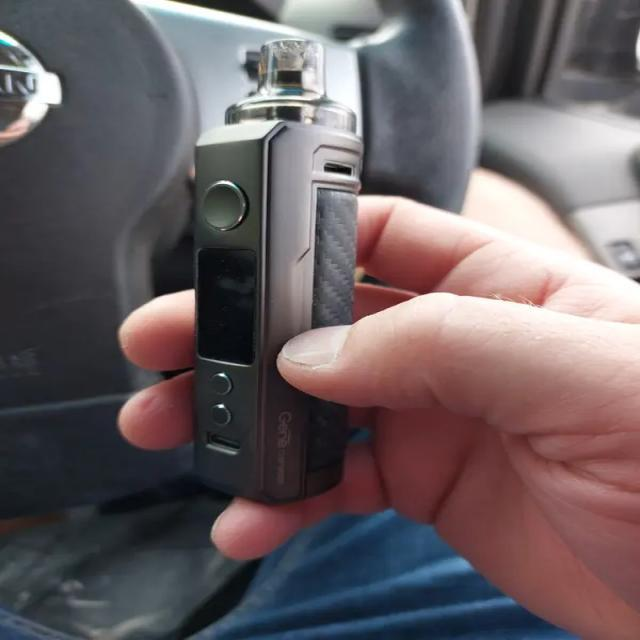Hazard: (194, 40, 363, 506)
